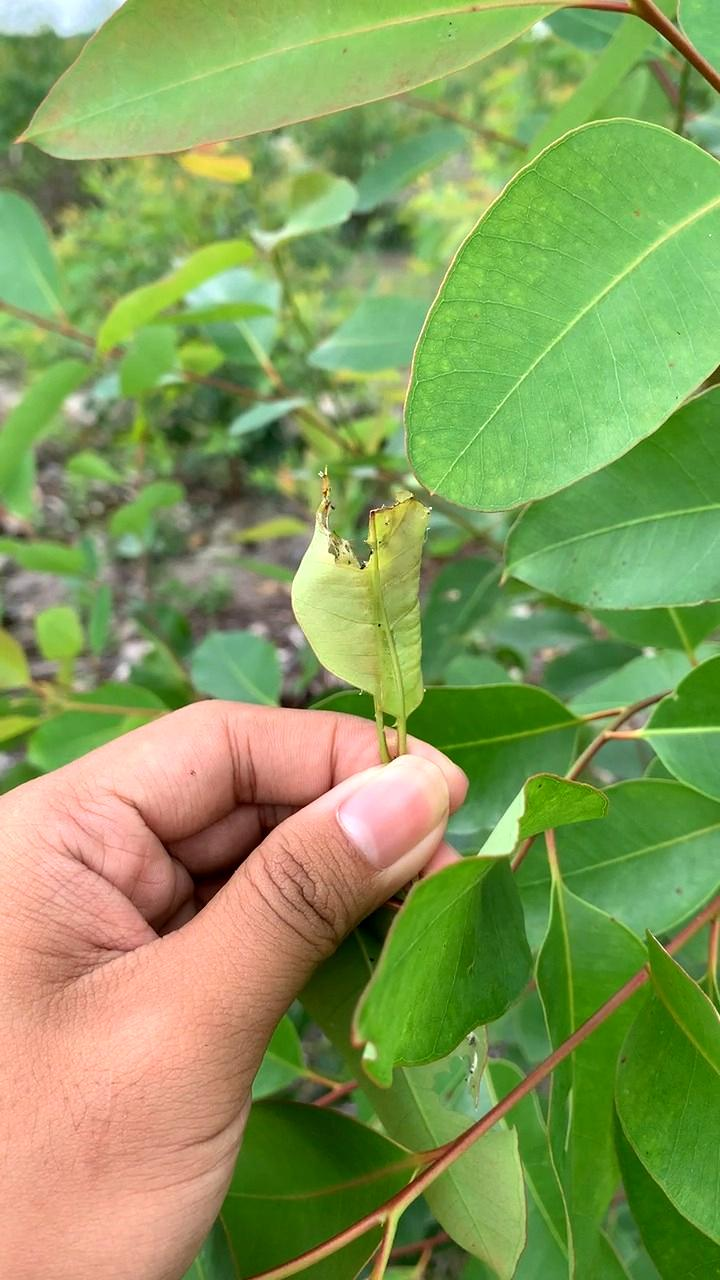Leaf Roller - Leaf: (281, 458, 446, 738)
